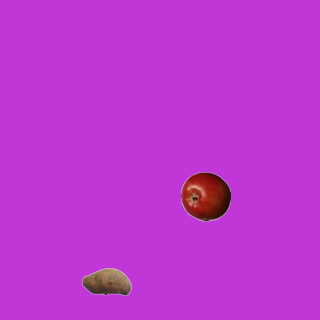Apple Braeburn: (180, 171, 230, 221)
Potato Sweet: (81, 256, 131, 306)
